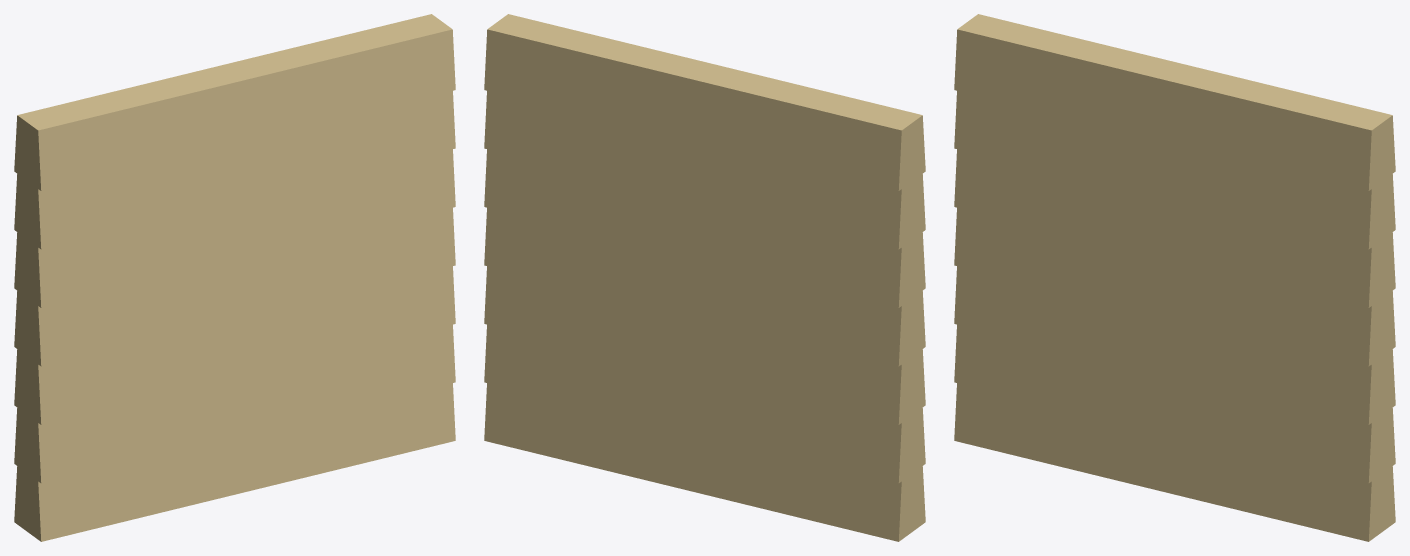
File: Wall01_house4.fbx
The picture shows the model from 3 angles, left to right: view 1: azimuth 30°, elevation 25°; view 2: azimuth 150°, elevation 25°; view 3: azimuth 330°, elevation 25°; orthographic projection.
Parts seen in each view (by area): view 1: Wall01_house04; view 2: Wall01_house04; view 3: Wall01_house04.
Boxes of the visible parts, left/top/right/bottom form: Wall01_house04: left=14, top=14, right=455, bottom=541; Wall01_house04: left=484, top=14, right=925, bottom=541; Wall01_house04: left=954, top=14, right=1395, bottom=541.
Bounding box in the file's own units: 350 × 330 × 39.57.
